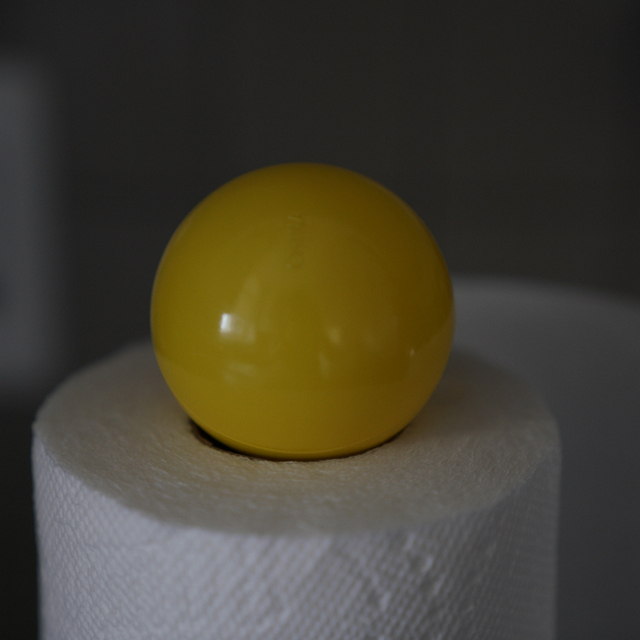Ball: (144, 160, 457, 459)
